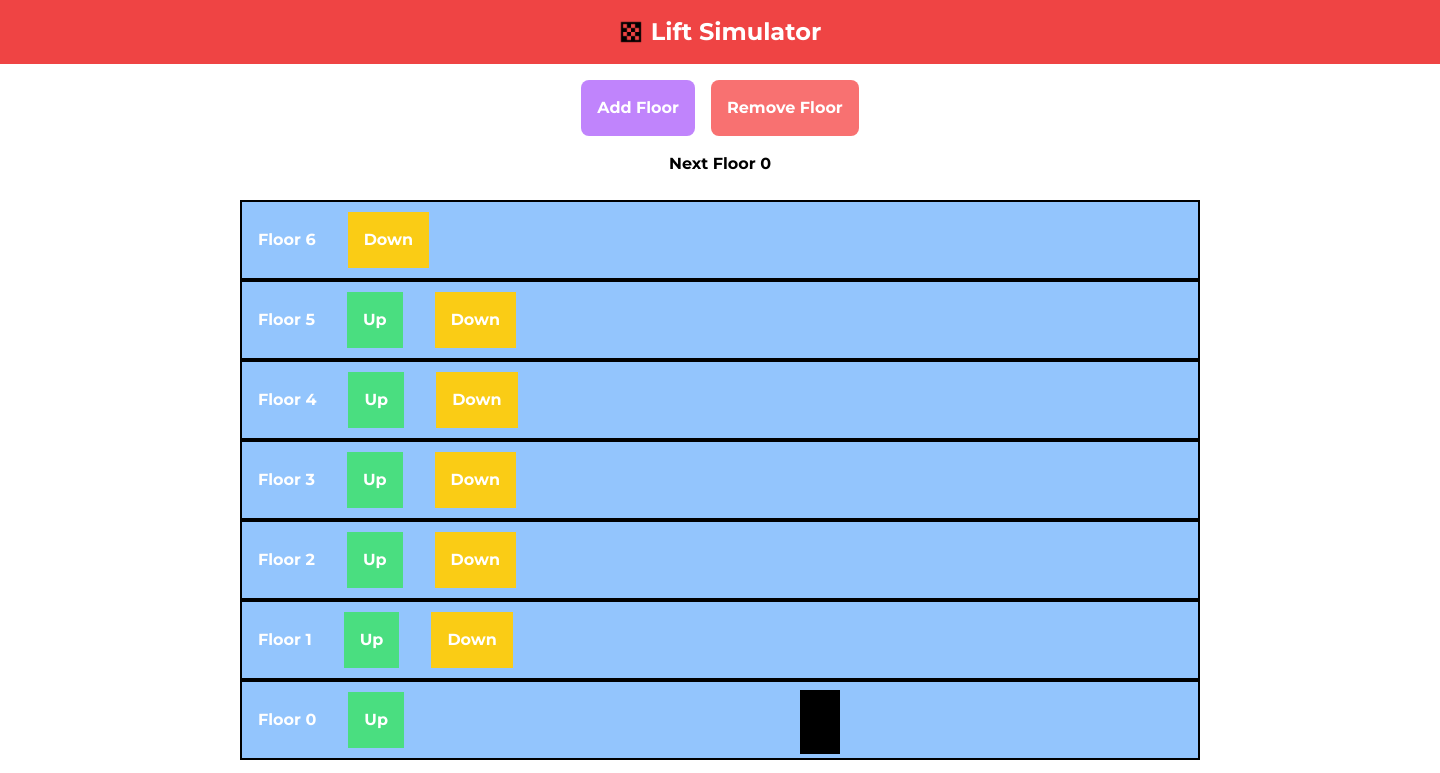
Scenario: <LiftSimulator /> › should render buttons and floors
The width and height of the screenshot is (1440, 773).
Expected: the button "Remove Floor" is shown, x1=711 y1=80 x2=859 y2=136
Expected: the text "Floor 6" is shown, x1=258 y1=228 x2=316 y2=252
Step 1. Click the button "Add Floor" → (638, 108), box x1=581 y1=80 x2=695 y2=136
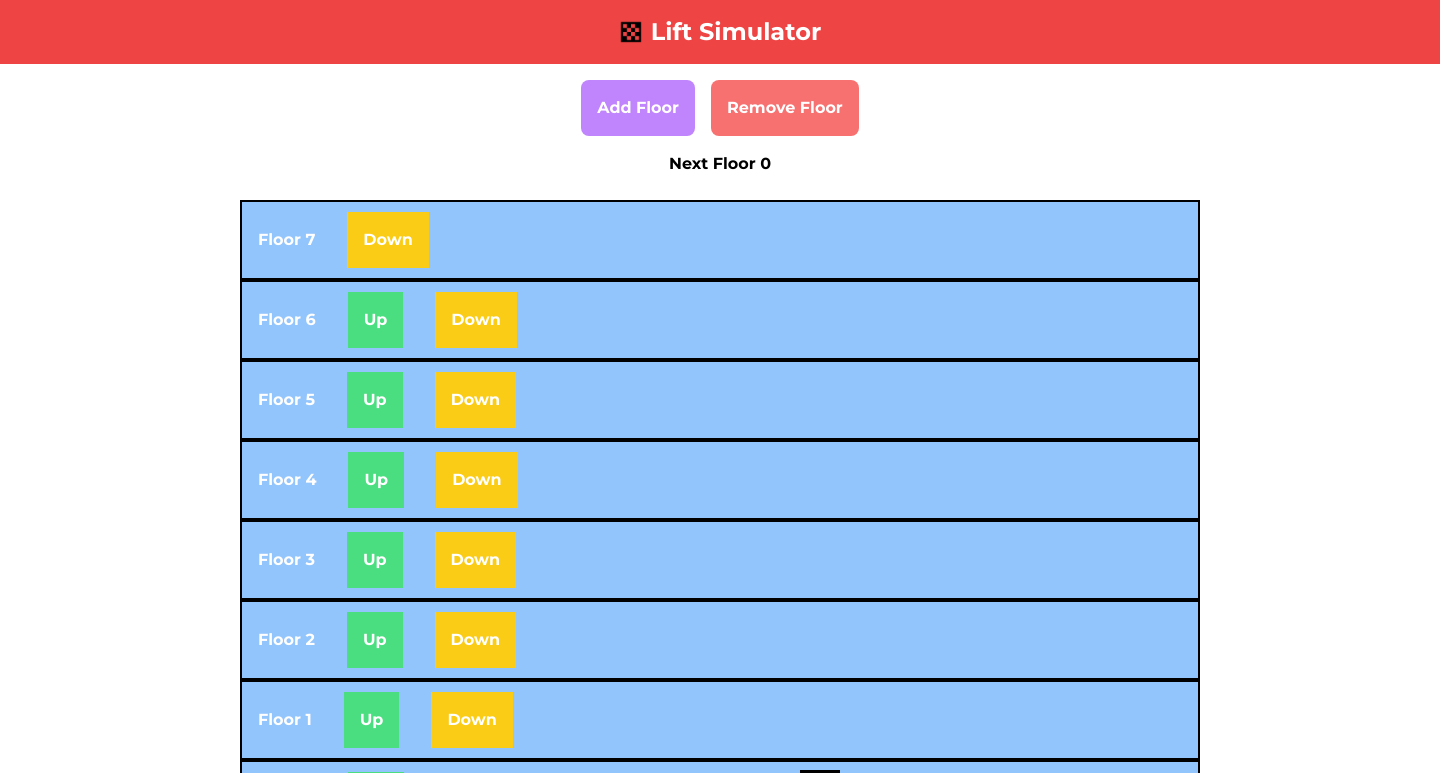
Now the text "Floor 7" is shown, box x1=258 y1=228 x2=315 y2=252
Step 2. Click the button "Remove Floor" → (785, 108), box x1=711 y1=80 x2=859 y2=136
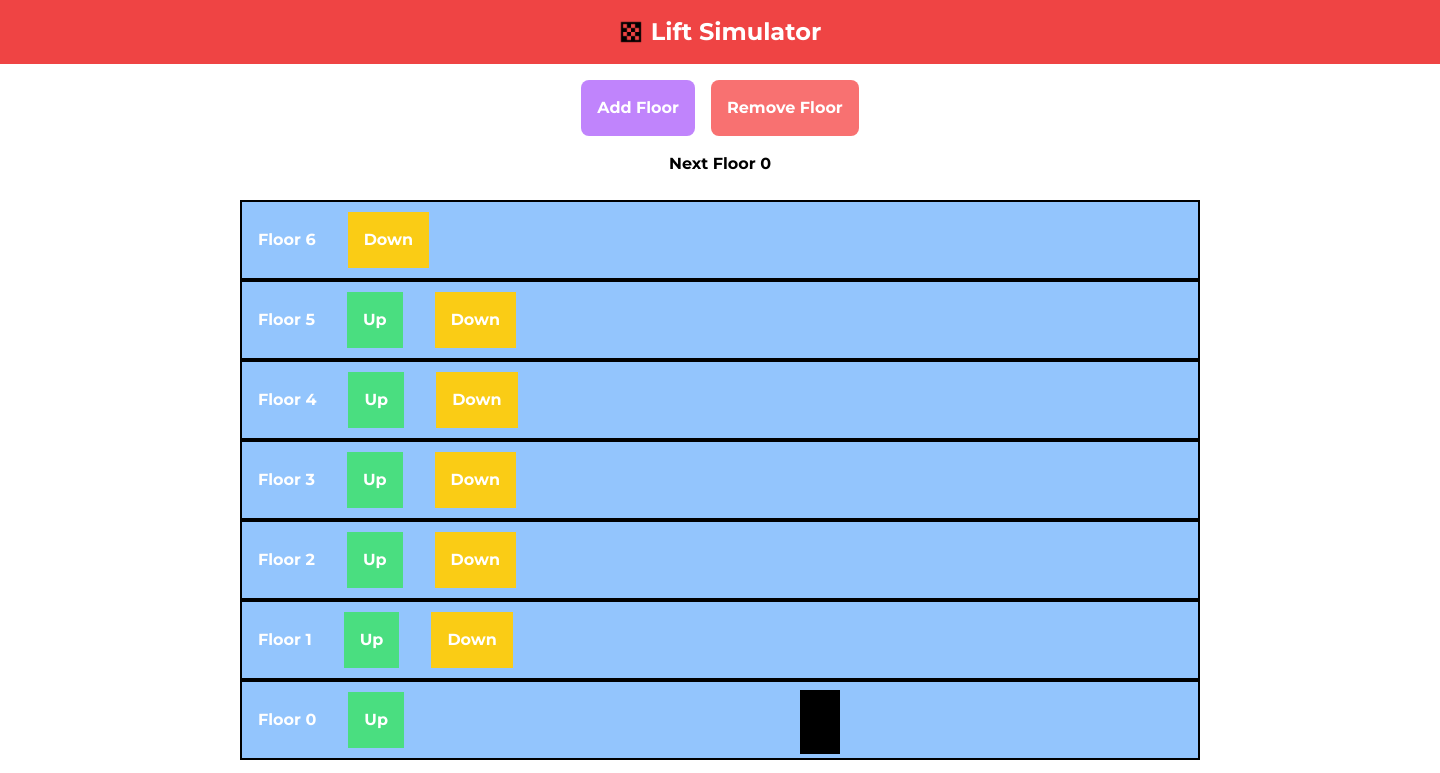
Now the text "Floor 7" is gone
